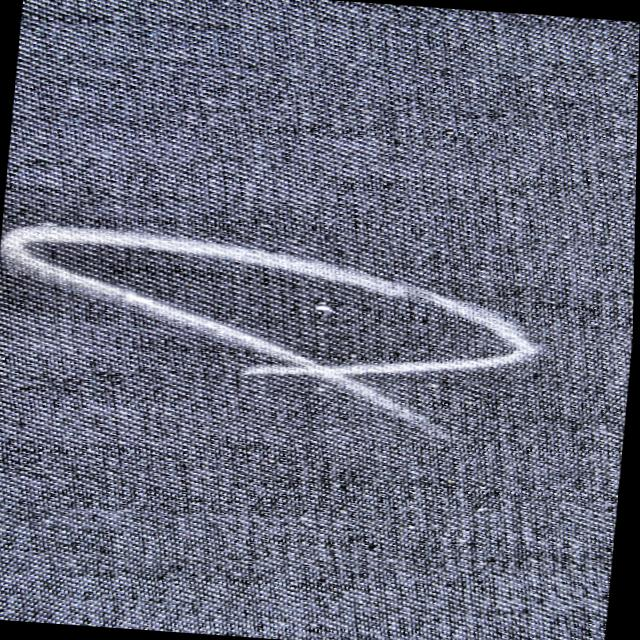Hole: (290, 293, 357, 326)
